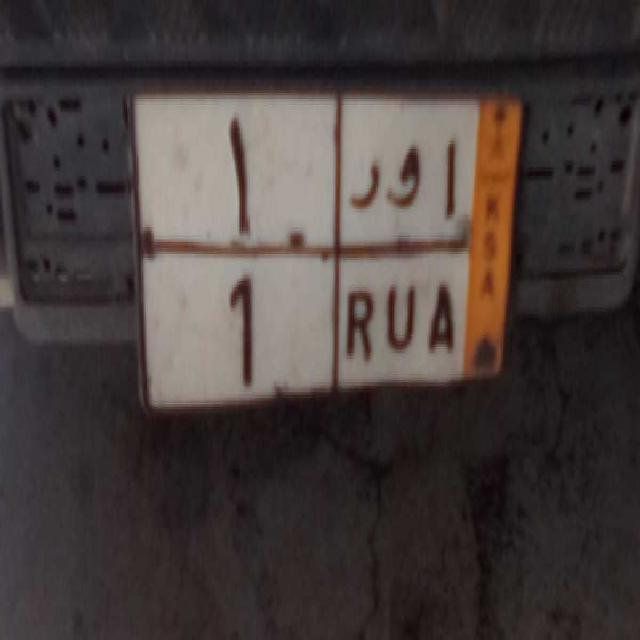license_plate: (142, 242, 468, 401)
